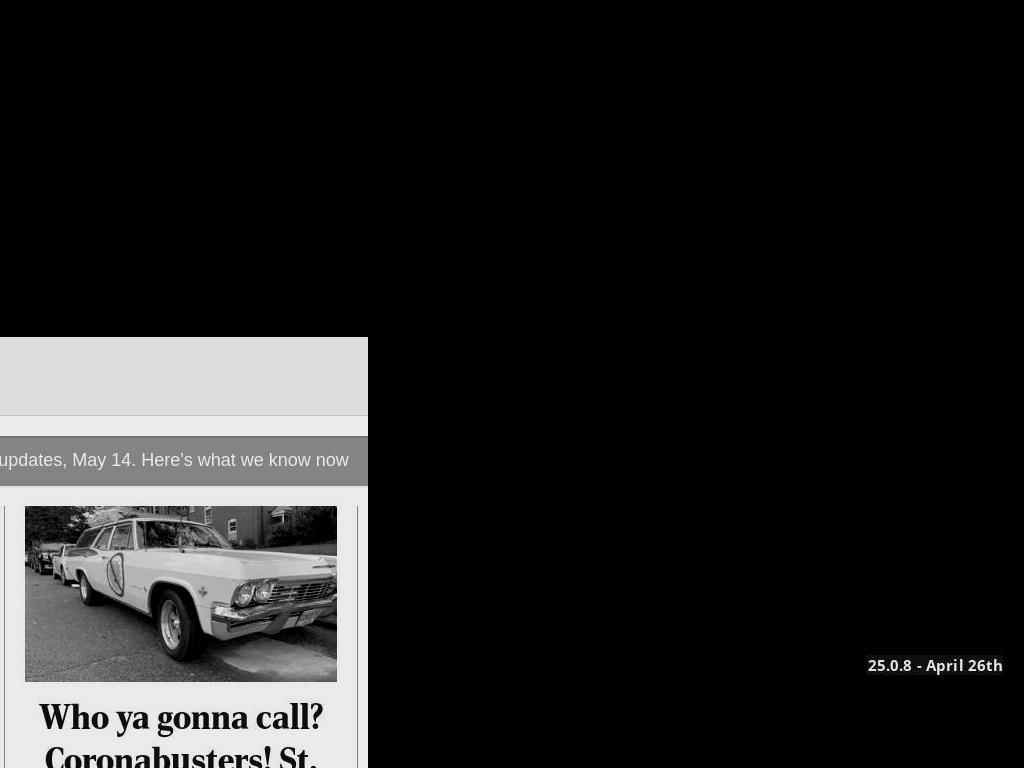button: (25, 506, 337, 682), (495, 719, 716, 768), (732, 719, 952, 768), (46, 0, 154, 90), (0, 0, 47, 90), (817, 414, 936, 444), (698, 365, 815, 395), (968, 719, 1024, 768), (599, 365, 677, 398), (918, 365, 982, 395), (835, 365, 898, 395), (223, 10, 263, 50), (263, 10, 303, 50), (313, 10, 353, 50), (748, 414, 779, 444), (783, 414, 814, 444), (1002, 365, 1024, 395)
heading: (368, 545, 1024, 635), (402, 110, 942, 170), (0, 170, 134, 326), (39, 701, 323, 768), (0, 104, 81, 321), (0, 450, 349, 471)
iframe: (0, 337, 368, 395)
image: (368, 337, 1024, 768), (368, 0, 1024, 337), (0, 0, 368, 337), (25, 506, 337, 682), (223, 10, 263, 50), (263, 10, 303, 50), (313, 10, 353, 50), (752, 418, 775, 440), (803, 655, 824, 675), (823, 654, 844, 674), (843, 655, 864, 675)
link: (821, 417, 928, 439), (970, 21, 1024, 37)
text: (368, 0, 1024, 337), (402, 297, 824, 327), (402, 252, 798, 282), (46, 0, 154, 90), (402, 207, 719, 237), (462, 21, 970, 37), (0, 0, 47, 90), (550, 727, 661, 760), (867, 655, 1003, 675), (680, 655, 792, 675)
